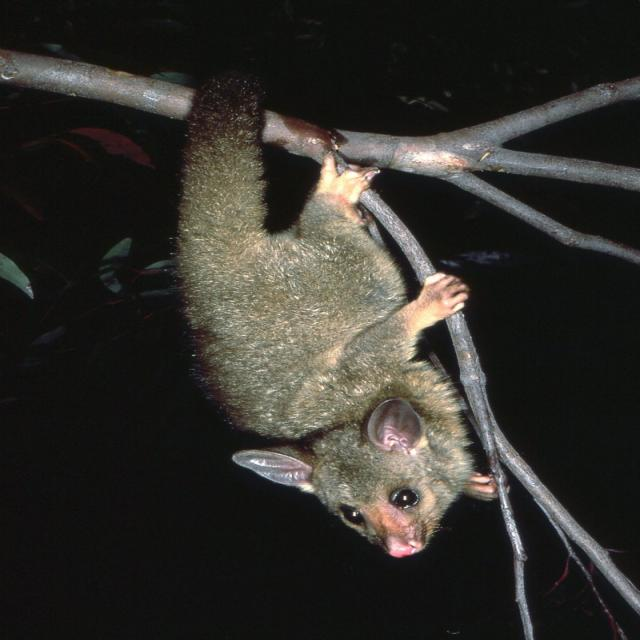Possum: (150, 50, 512, 557)
